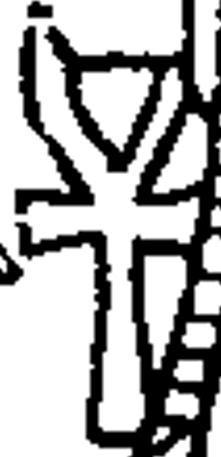Ankh: (7, 19, 206, 449)
